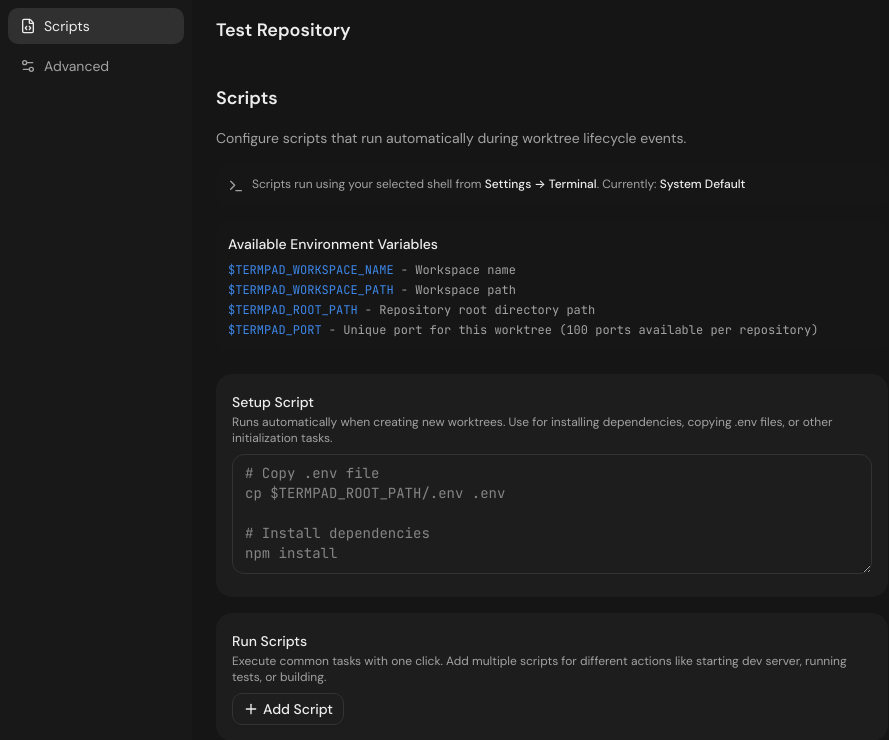
Scenario: RepositorySettingsOverlay › run scripts › adds a new run script when Add Script button is clicked
// Click add button
Step 1. Click the button with test id "add-run-script-button" → (288, 709), box x1=232 y1=693 x2=344 y2=725
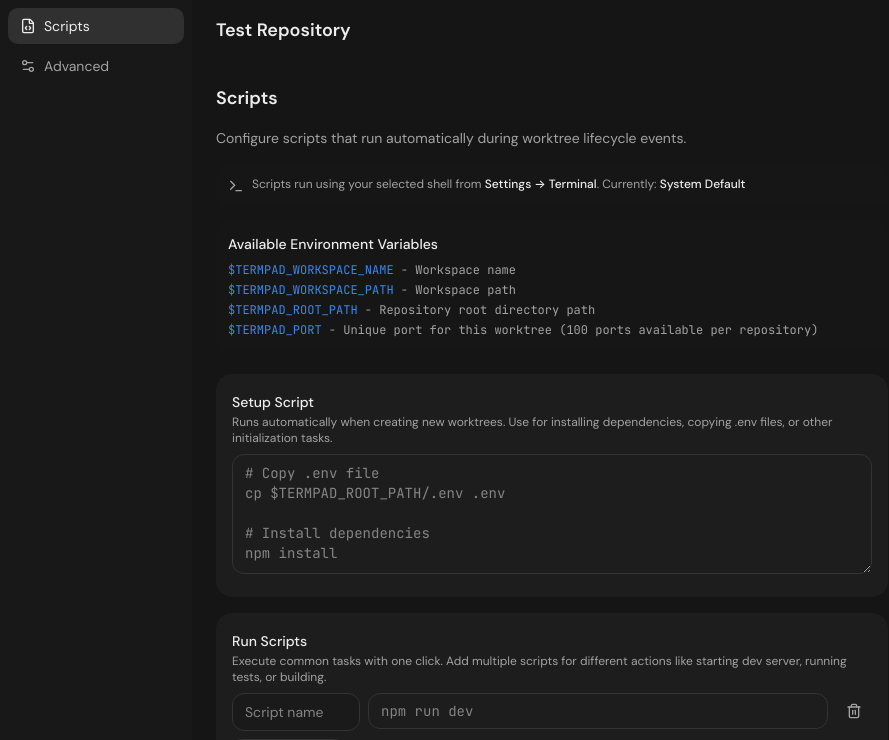
Now the element with test id "run-script-0" is shown, box x1=232 y1=693 x2=872 y2=731
Now the field with test id "run-script-name-0" is shown, box x1=232 y1=693 x2=360 y2=731
Now the field with test id "run-script-command-0" is shown, box x1=368 y1=693 x2=828 y2=729
